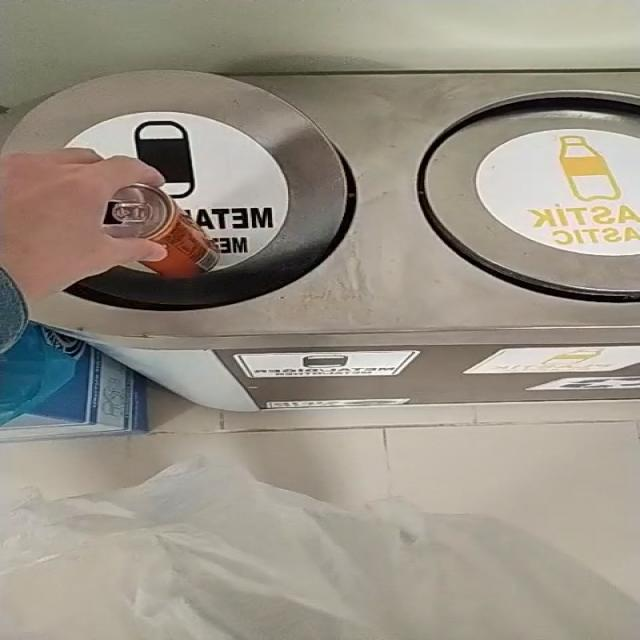Bin: (39, 71, 640, 410)
Metal: (101, 184, 220, 278)
